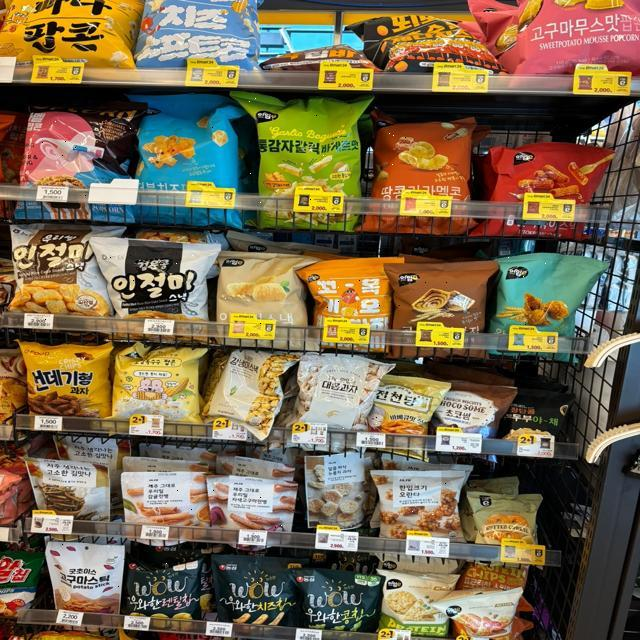product: (248, 96, 375, 233), (141, 92, 248, 226), (376, 112, 479, 229), (26, 104, 139, 205), (94, 239, 218, 324), (8, 221, 107, 323), (202, 349, 287, 446), (501, 255, 602, 333), (115, 341, 201, 432), (397, 262, 496, 332), (304, 350, 386, 432), (23, 346, 112, 420), (219, 251, 309, 324), (212, 550, 297, 624), (377, 472, 466, 540), (312, 251, 391, 321), (46, 540, 119, 615), (26, 459, 110, 522), (302, 571, 382, 629), (127, 556, 202, 616), (211, 477, 297, 529), (124, 475, 208, 528)
